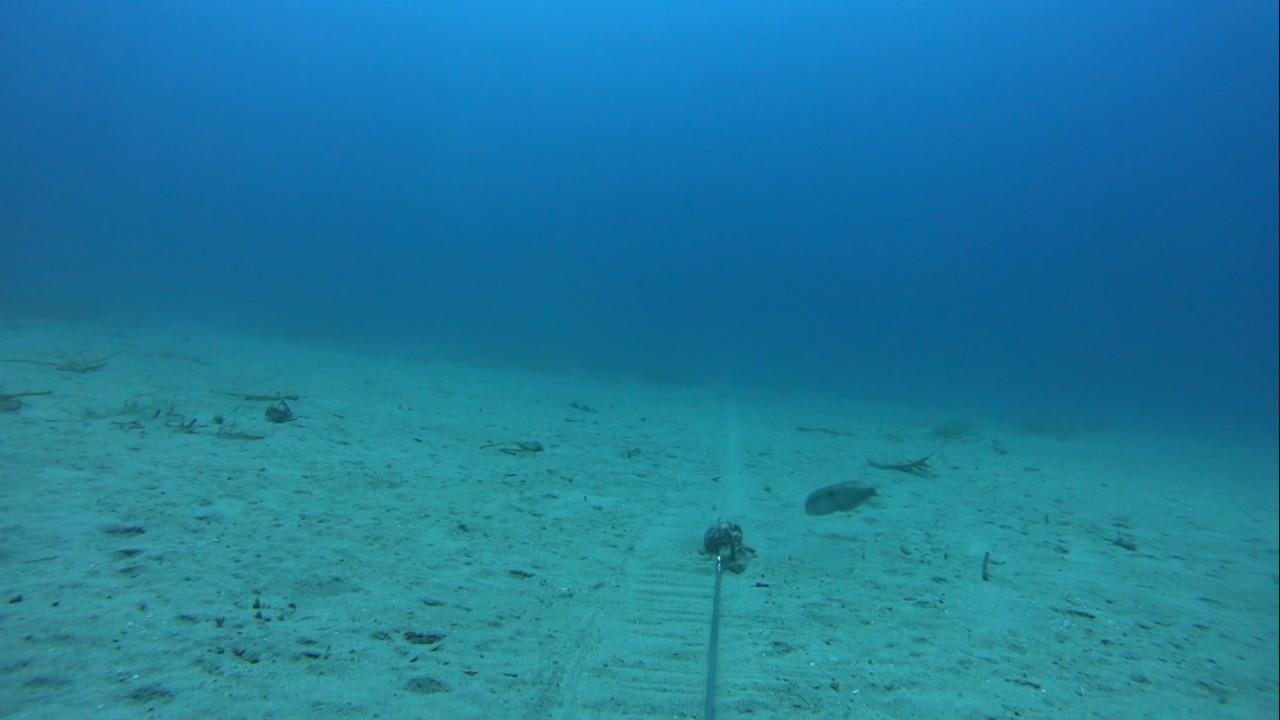raor: (797, 477, 882, 520)
